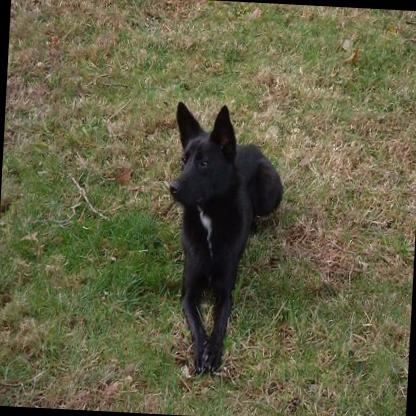kelpie: (157, 99, 287, 377)
